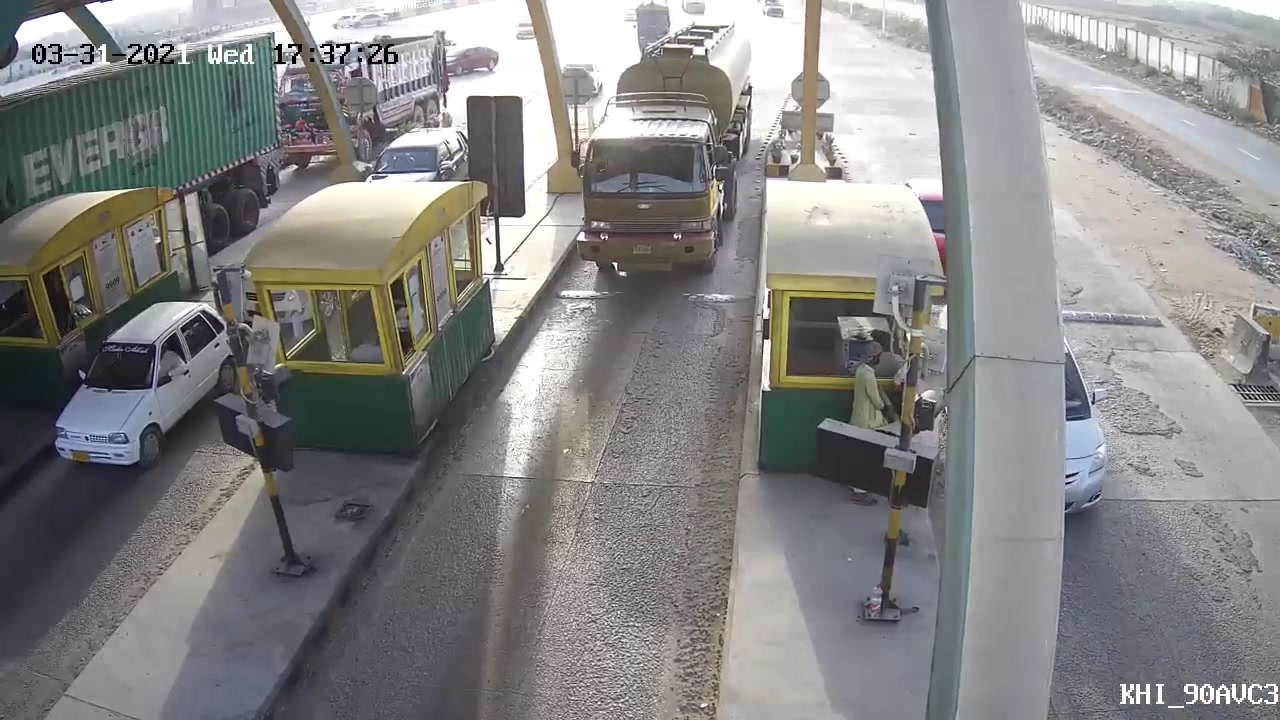F6: (569, 12, 761, 273)
